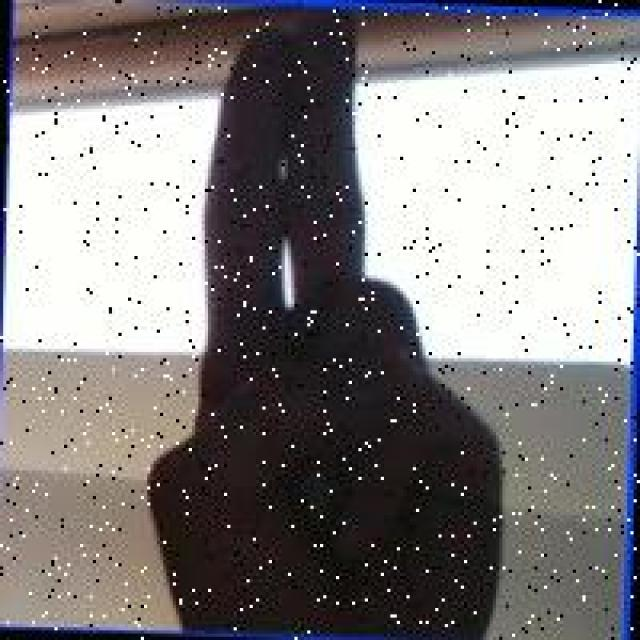U: (138, 0, 528, 640)
